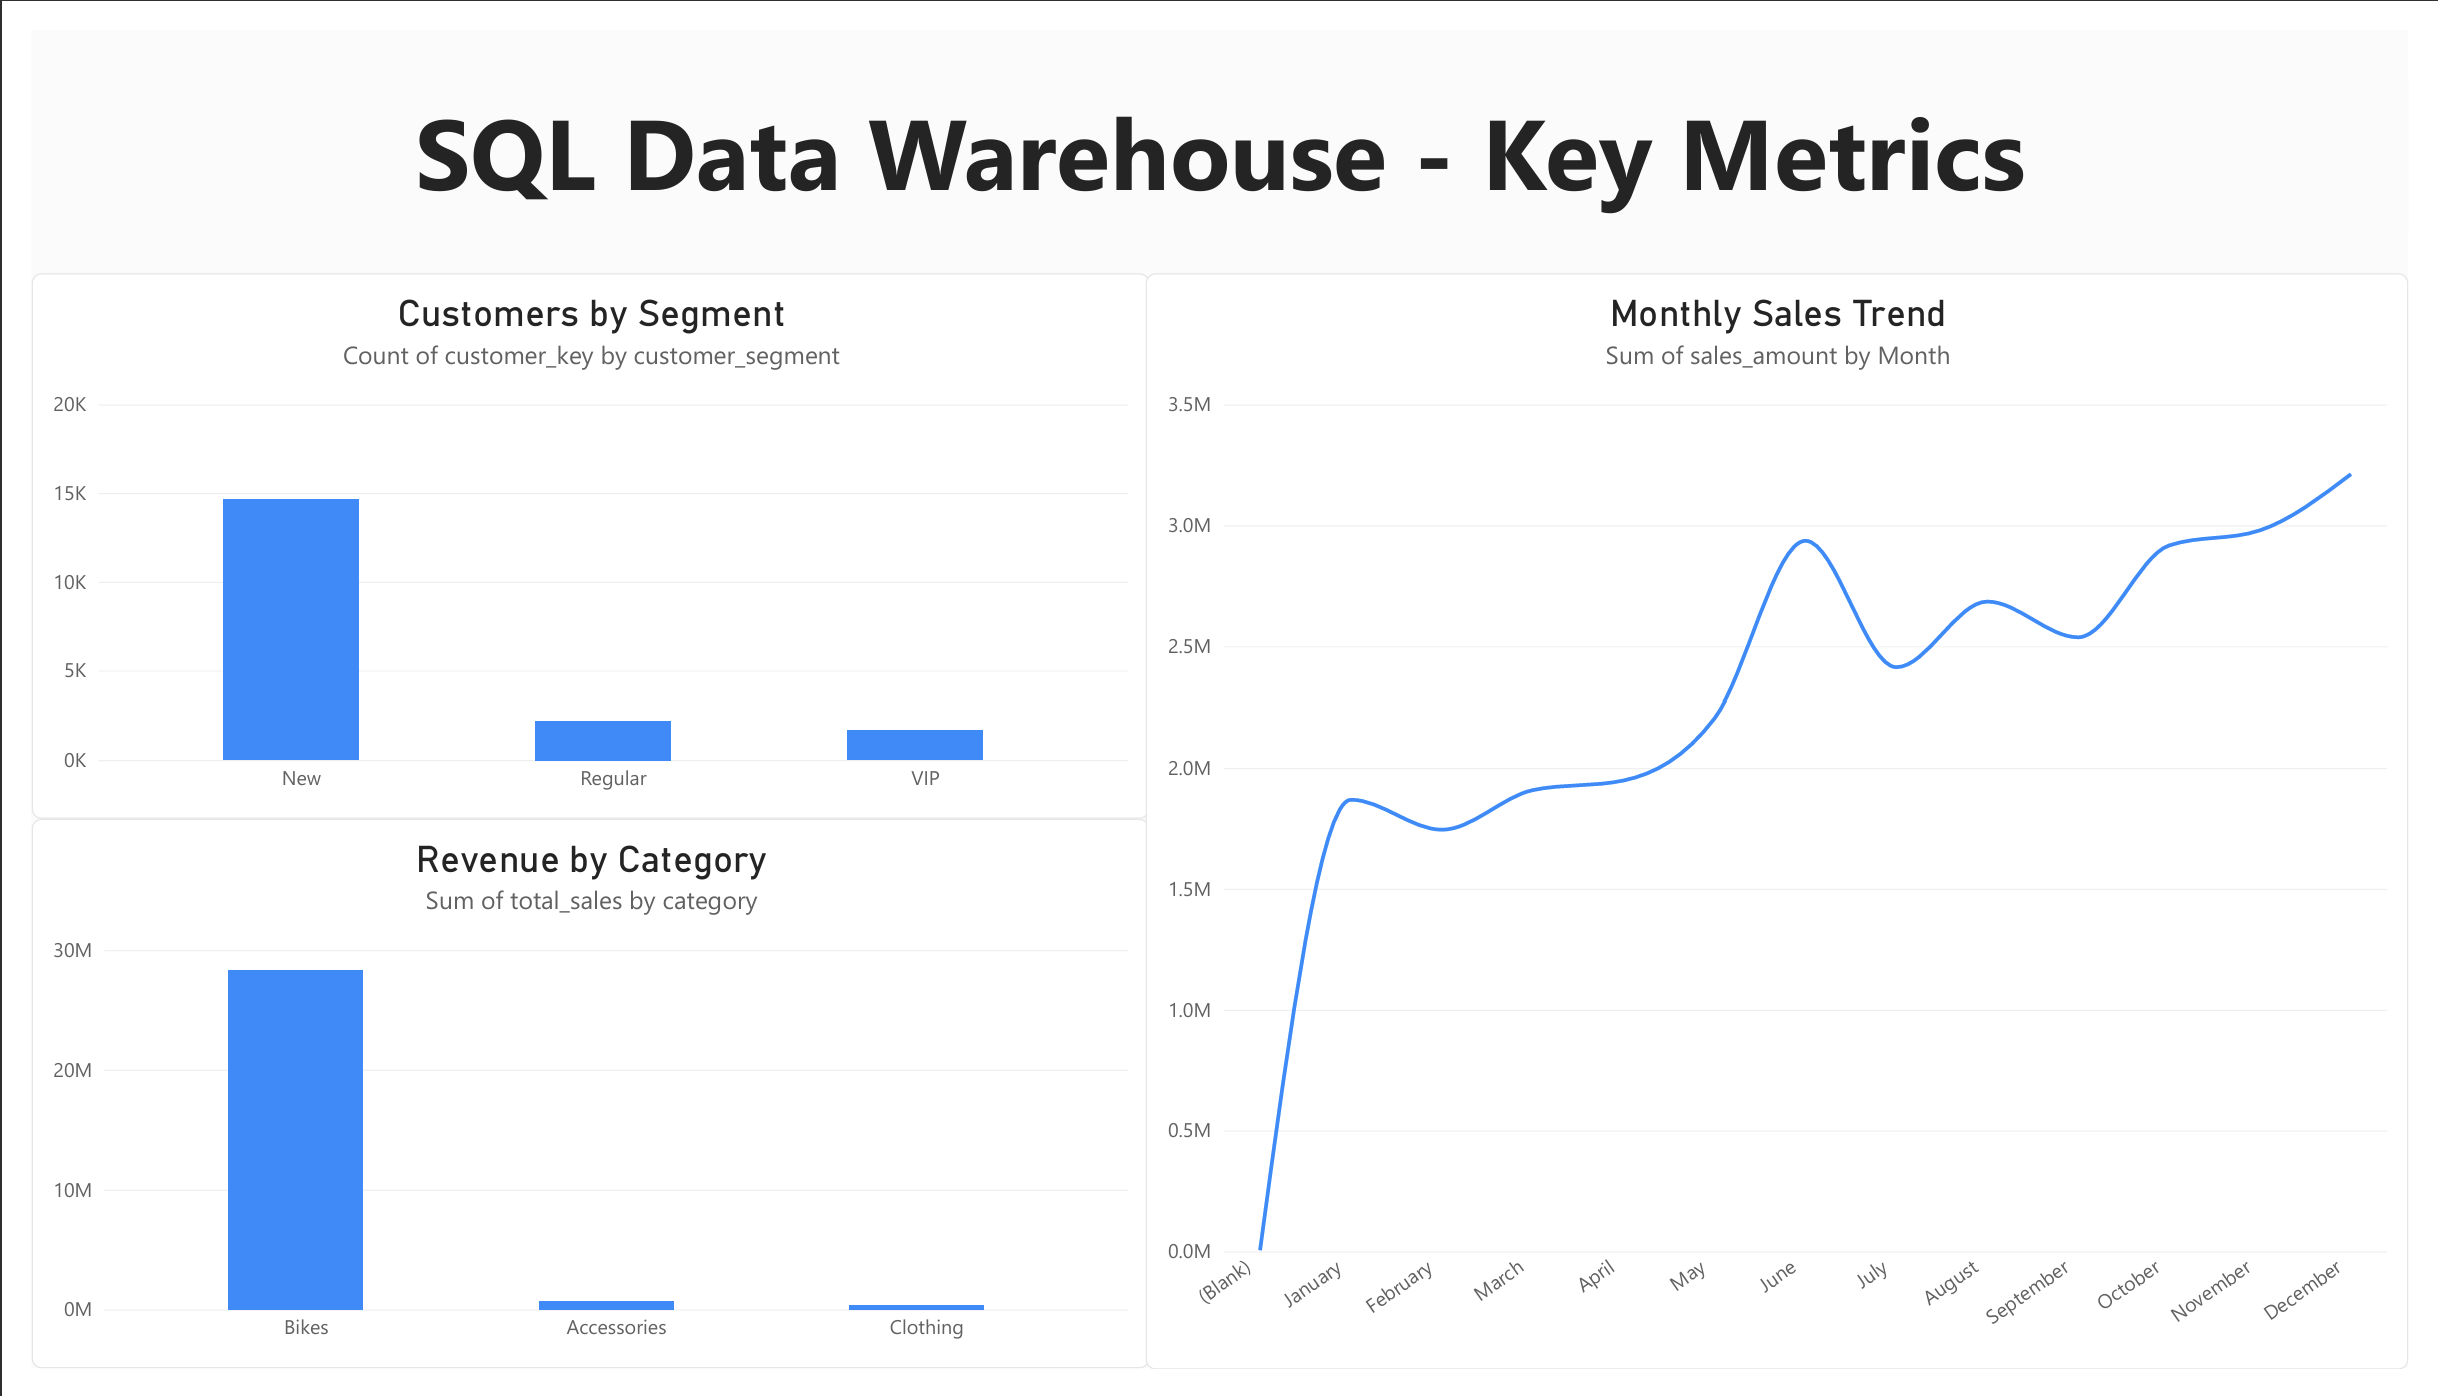

This screenshot's page, from the dashboard's own definition file:
{"tool":"powerbi","page":{"name":"Page 1","canvas":[1920,1080],"ordinal":0},"visuals":[{"type":"clusteredColumnChart","title":"Customers by Segment","fields":{"Category":["gold report_customers.customer_segment"],"Y":["Count(gold report_customers.customer_key)"]},"box":[0,195.7,902.9,440],"z":0},{"type":"clusteredColumnChart","title":"Revenue by Category","fields":{"Category":["gold report_products.category"],"Y":["Sum(gold report_products.total_sales)"]},"box":[0,635.7,902.9,444.3],"z":1000},{"type":"lineChart","title":"Monthly Sales Trend","fields":{"Category":["gold fact_sales.order_date.Variation.Date Hierarchy.Month"],"Y":["Sum(gold fact_sales.sales_amount)"]},"box":[900,195.6,1020,885.6],"z":2000},{"type":"textbox","box":[0,42.5,1920,152.5],"z":2001}]}

Visuals, with their boxes in screenshot pixels (x1, y1, x2, y2), scaled from the page's 1920x1080 canvas onto the 2438x1396 screenshot:
"Customers by Segment" clusteredColumnChart: rect(0, 253, 1146, 822)
"Revenue by Category" clusteredColumnChart: rect(0, 822, 1146, 1395)
"Monthly Sales Trend" lineChart: rect(1143, 253, 2437, 1395)
textbox: rect(0, 55, 2437, 252)
